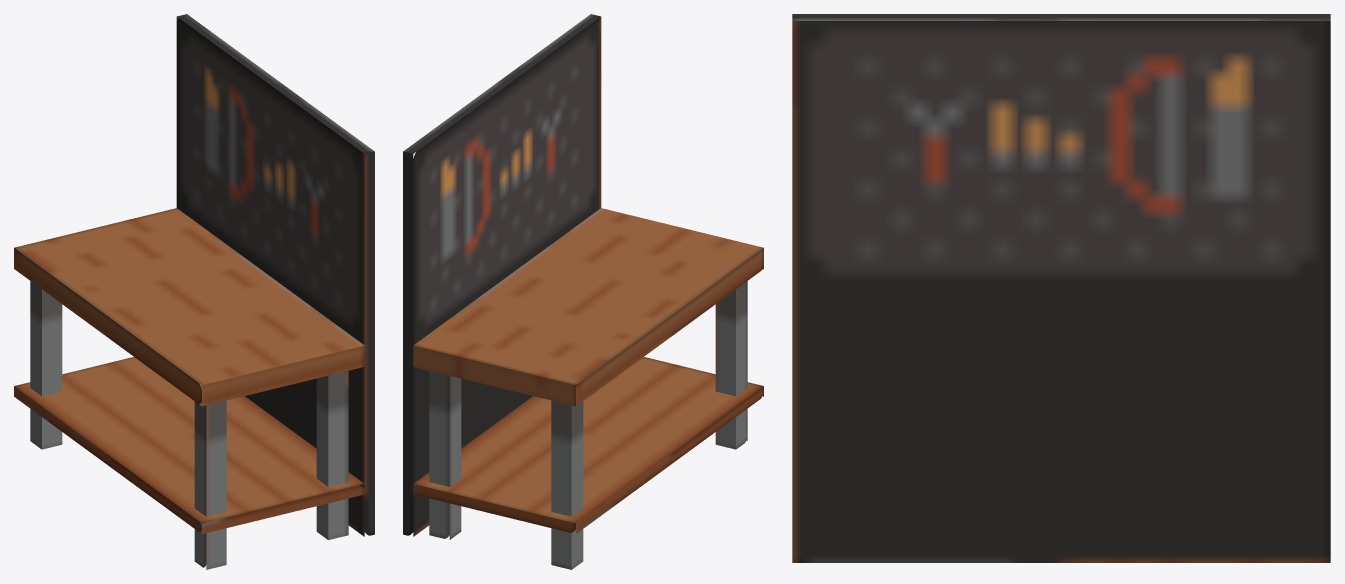
File: Workbench.fbx
3 views of the same model, side by side, from view 1: azimuth 30°, elevation 25°; view 2: azimuth 150°, elevation 25°; view 3: azimuth 270°, elevation 25° (orthographic). The views are drawn at different scales.
Parts seen in each view (by area): view 1: cube_6, cube, cube_1, cube_3, cube_4, cube_2; view 2: cube_6, cube, cube_1, cube_2, cube_5, cube_3; view 3: cube_6.
Part boxes in pixels (x1,y1,x2,y2): cube_6: (176, 14, 374, 536); cube: (14, 208, 364, 406); cube_1: (14, 357, 364, 533); cube_3: (194, 400, 226, 569); cube_4: (316, 371, 348, 539); cube_2: (30, 281, 62, 449); cube_6: (403, 14, 601, 536); cube: (413, 208, 763, 406); cube_1: (413, 357, 763, 533); cube_2: (551, 400, 583, 569); cube_5: (429, 371, 461, 539); cube_3: (715, 281, 747, 449); cube_6: (792, 14, 1330, 562).
Size of the model in its own units: 106 by 225 by 200.
1 material, 1 textured.
